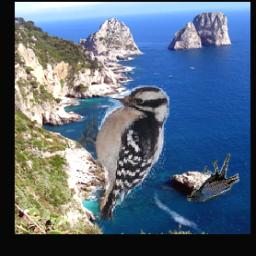Crow: (188, 154, 240, 202)
Woodpecker: (76, 86, 169, 222)
